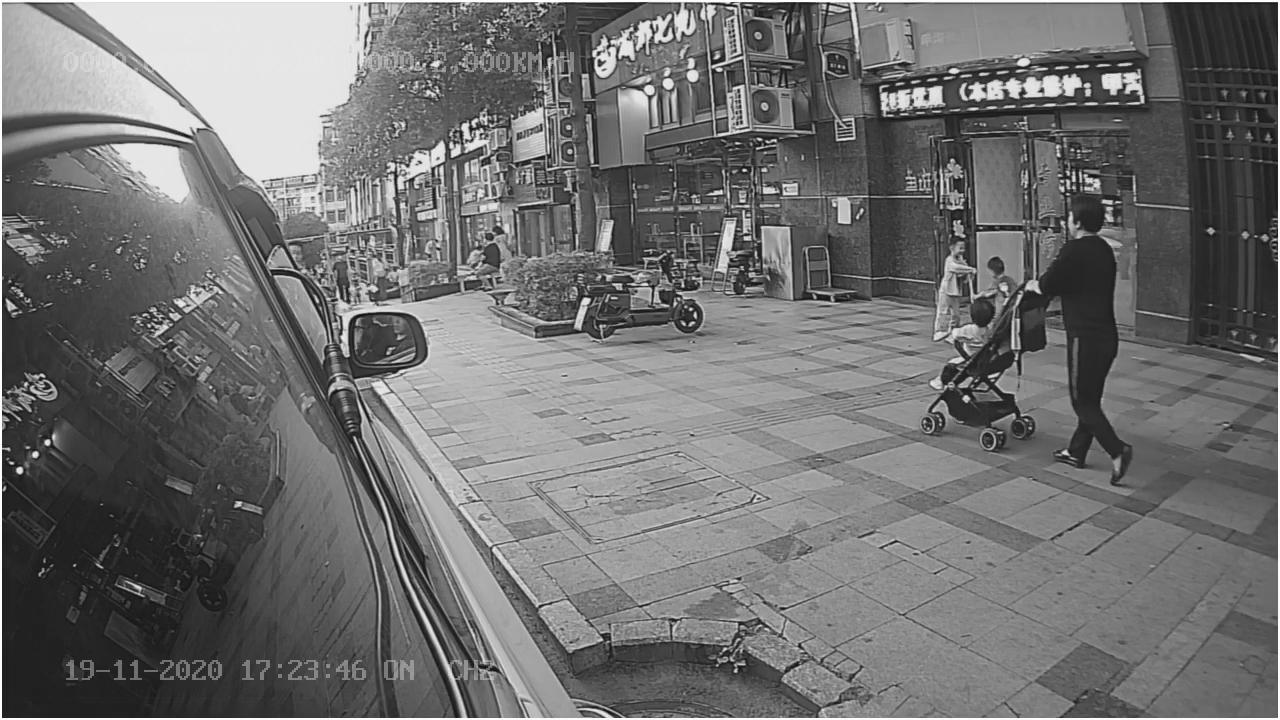person: (1017, 188, 1144, 492)
